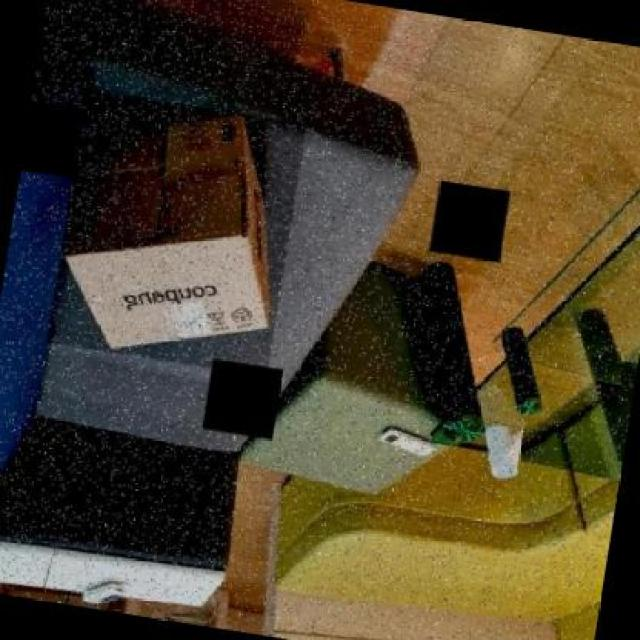box: (46, 89, 306, 376)
